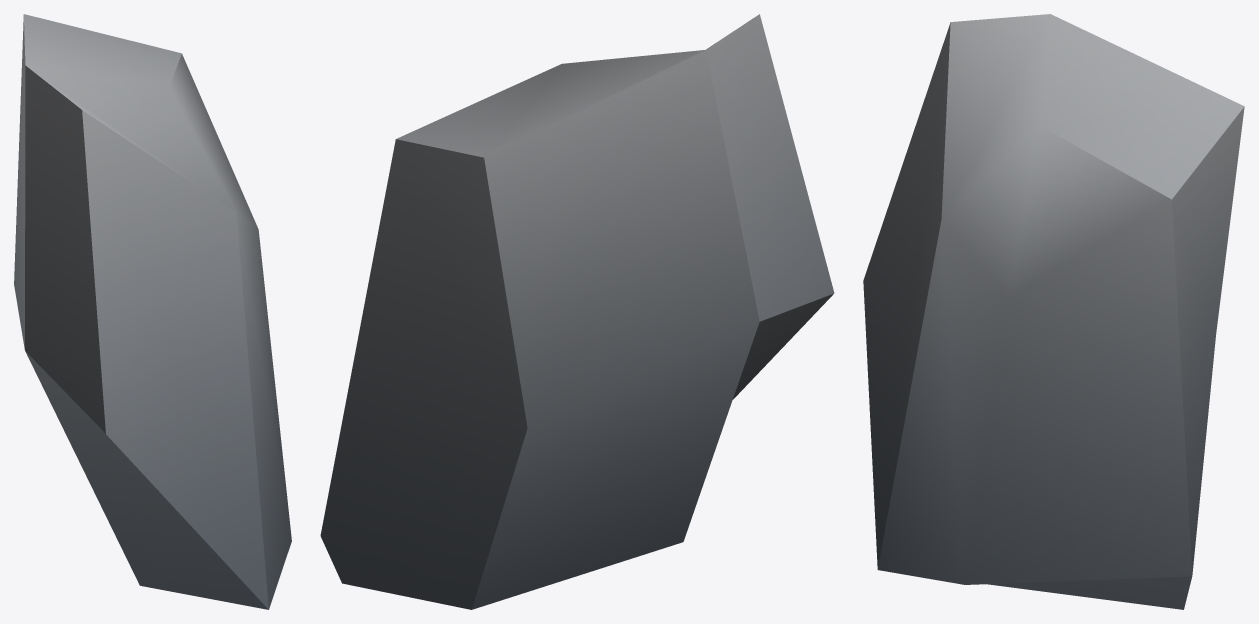
The model's file is rocaCuadrada2.fbx.
3 views of the same model, side by side, from view 1: azimuth 30°, elevation 25°; view 2: azimuth 150°, elevation 25°; view 3: azimuth 270°, elevation 25° (orthographic). The views are drawn at different scales.
Parts seen in each view (by area): view 1: rocaCuadrada2; view 2: rocaCuadrada2; view 3: rocaCuadrada2.
Boxes of the visible parts, x1,y1,x2,y2 form: rocaCuadrada2: [14, 14, 291, 609]; rocaCuadrada2: [320, 14, 834, 609]; rocaCuadrada2: [863, 14, 1244, 609].
Size of the model in its own units: 234 by 378 by 269.
